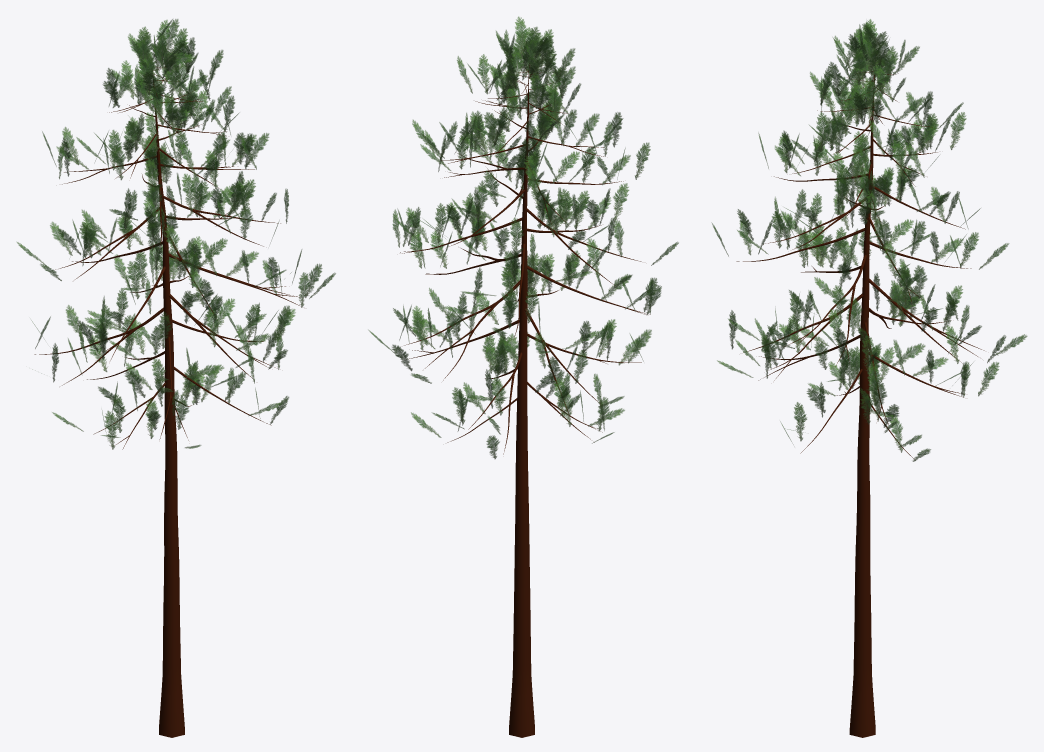
The model's file is fir_tree_1.gltf.
3 views of the same model, side by side, from view 1: azimuth 30°, elevation 25°; view 2: azimuth 150°, elevation 25°; view 3: azimuth 270°, elevation 25° (orthographic).
Parts seen in each view (by area): view 1: LeafSet019_2K_Color_A.314, tree; view 2: LeafSet019_2K_Color_A.314, tree; view 3: LeafSet019_2K_Color_A.314, tree.
Boxes of the visible parts, left/top/right/bottom form: LeafSet019_2K_Color_A.314: left=17, top=19, right=335, bottom=449; tree: left=34, top=67, right=299, bottom=737; LeafSet019_2K_Color_A.314: left=368, top=16, right=678, bottom=458; tree: left=400, top=63, right=645, bottom=737; LeafSet019_2K_Color_A.314: left=712, top=19, right=1027, bottom=461; tree: left=736, top=55, right=984, bottom=737.
Bounding box in the file's own units: 4.69 × 11.09 × 4.53.
Materials: 2 (1 with a texture image).
